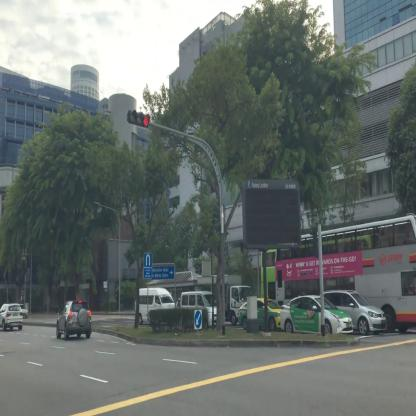red_traffic_light: (128, 107, 150, 130)
